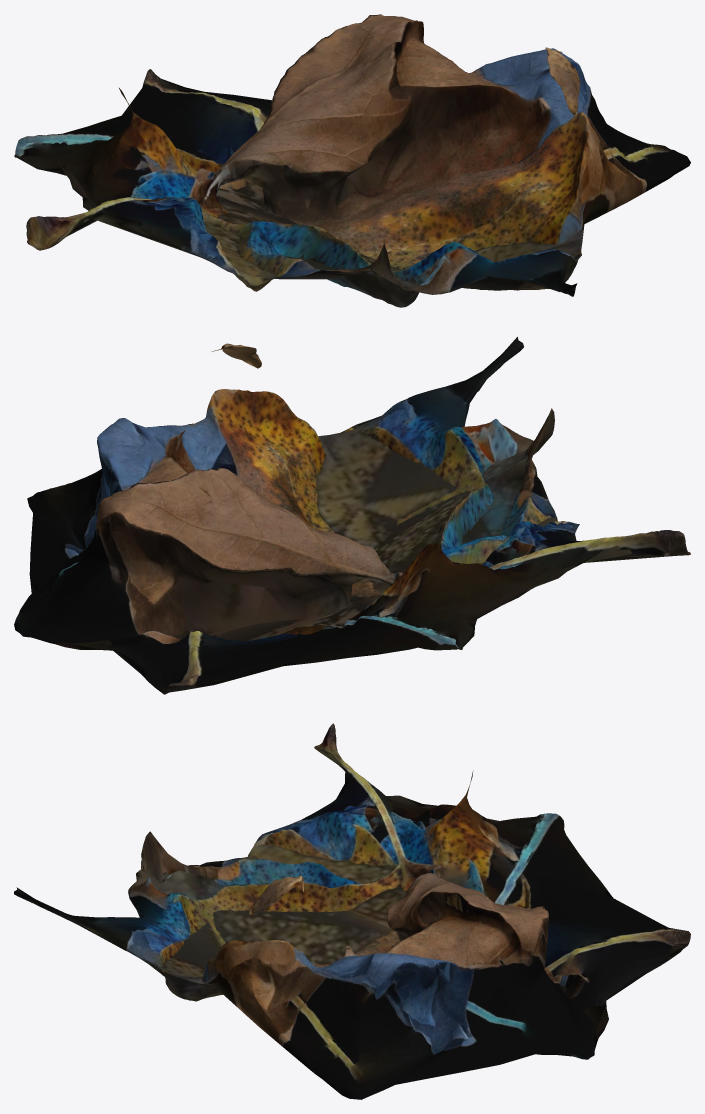
The model's file is leaf-12.glb.
3 views of the same model, one above another, from view 1: azimuth 30°, elevation 25°; view 2: azimuth 150°, elevation 25°; view 3: azimuth 270°, elevation 25° (orthographic). The views are drawn at different scales.
Parts seen in each view (by area): view 1: Mesh; view 2: Mesh; view 3: Mesh.
Part boxes in pixels (x1,y1,x2,y2): Mesh: [14, 14, 690, 307]; Mesh: [14, 337, 690, 694]; Mesh: [14, 723, 690, 1099].
Size of the model in its own units: 0.3021 by 0.0905 by 0.3072.
1 material, 1 textured.
